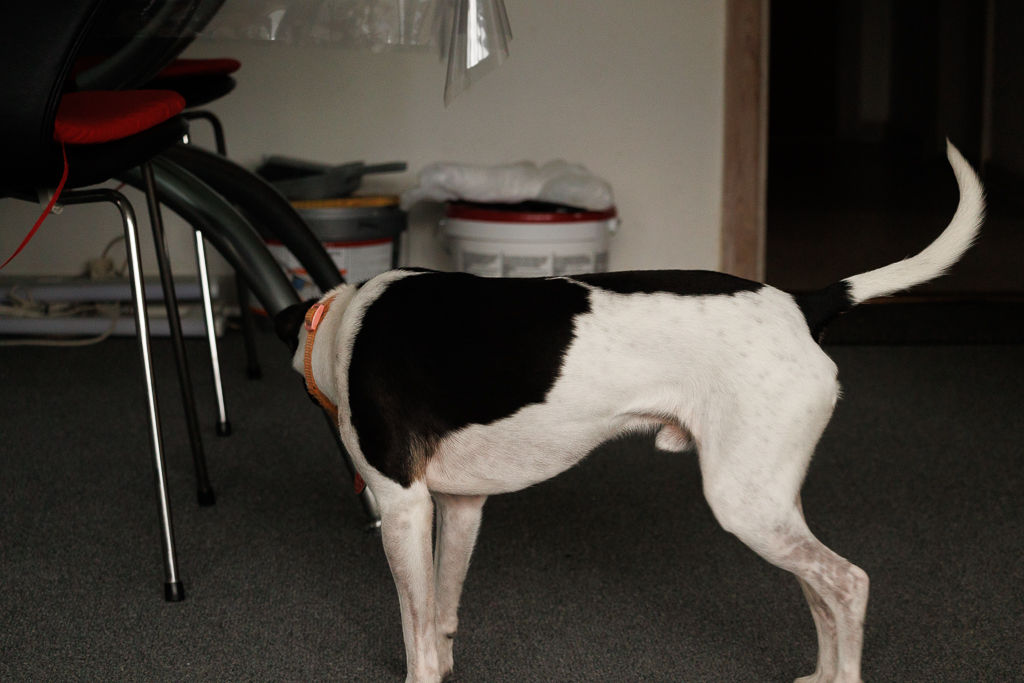Dog: (225, 127, 995, 683)
